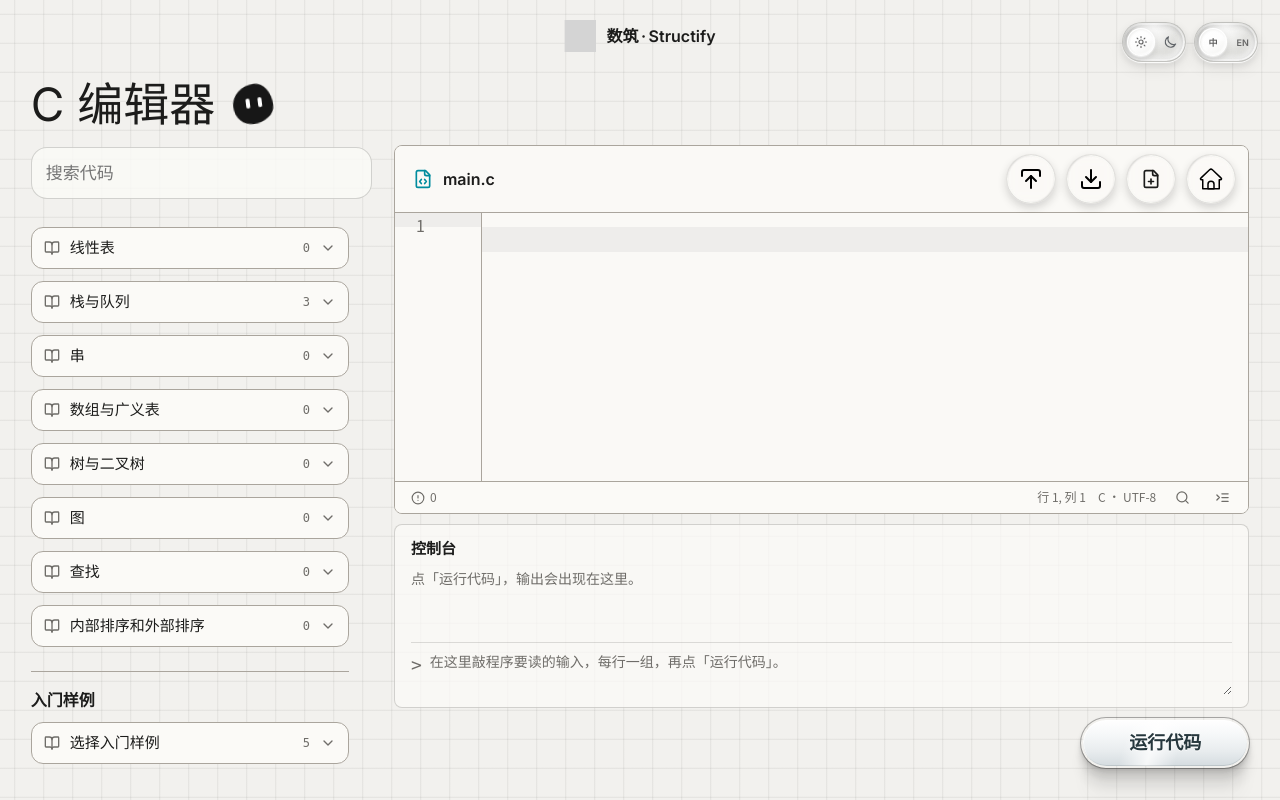
code library page › offers three independent regions and a separate menu for each chapter
The width and height of the screenshot is (1280, 800).
(page scrolled)
Click the button with class "code-menu__trigger" showing "选择入门样例 5" at (115, 743), box [31,722,349,764]
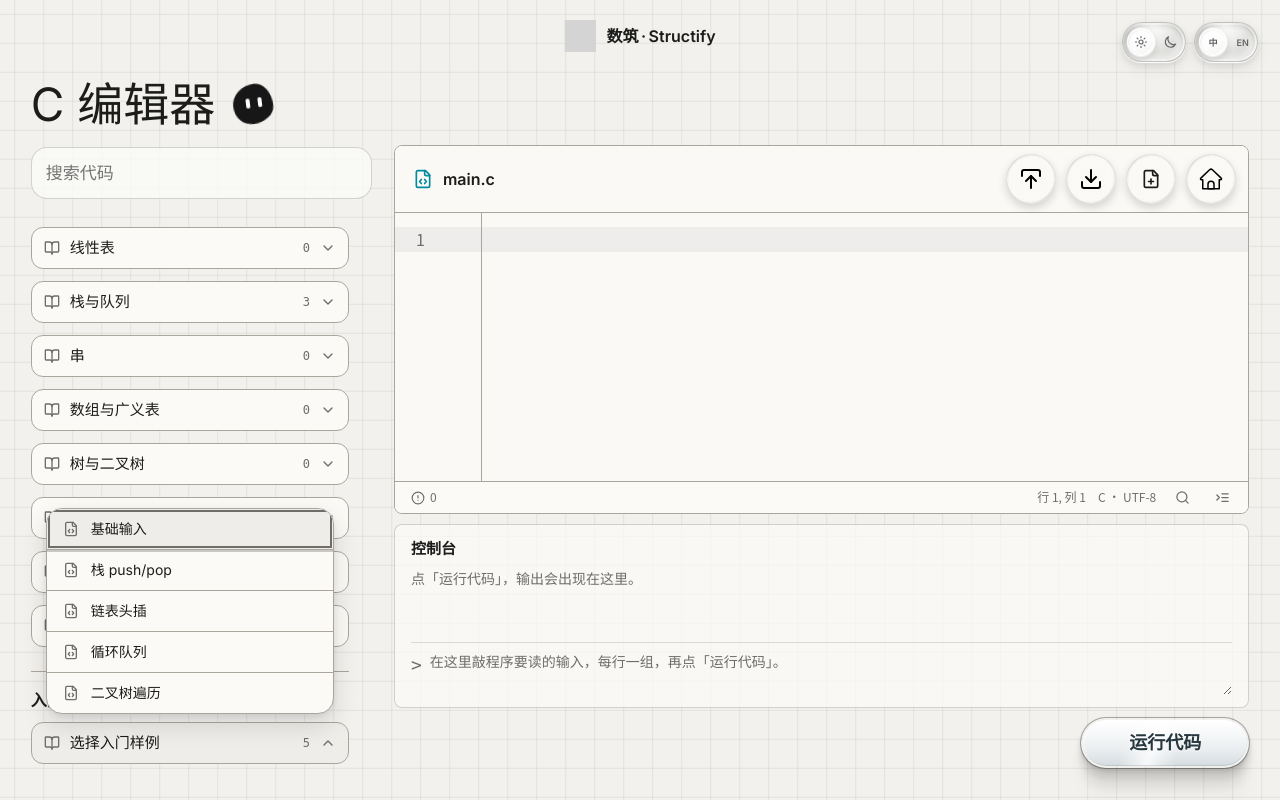
Check: the number of menu items with class "code-menu__item" is 5, box [47,509,333,549]; [47,549,333,590]; [47,590,333,631]; [47,631,333,672]; [47,672,333,713]
Check: the text "二叉树遍历" is shown, box [91,684,161,701]
